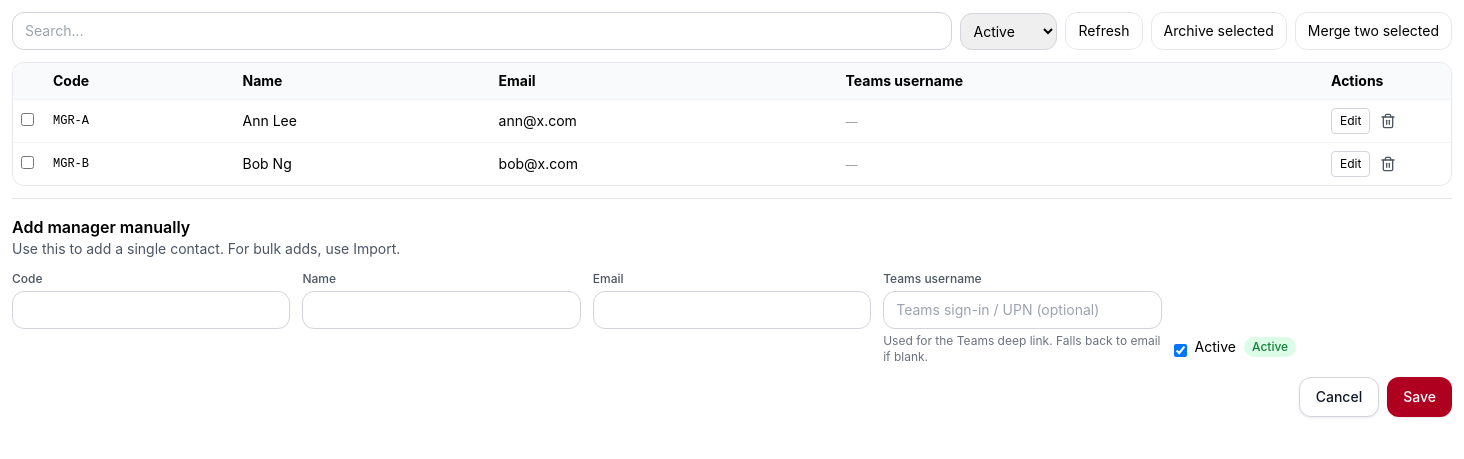
DirectoryTable inline edit › only one row is editable at a time
Expected: the text "MGR-A" is shown, [45,100,234,142]
Click the button with aria-label "edit manager ann lee" at (1351,121), box [1331,108,1370,134]
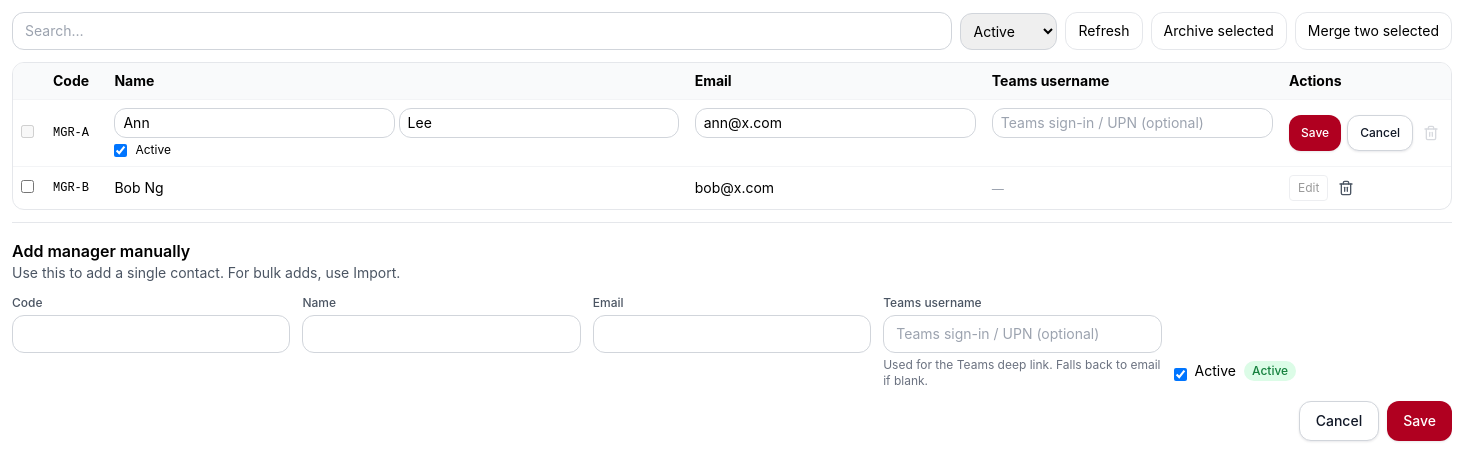
Result: the button with aria-label "edit manager bob ng" is disabled at [1289,175,1328,201]
Click the button "Cancel" in the row of "MGR-A" at (1380,133), box [1347,115,1413,151]
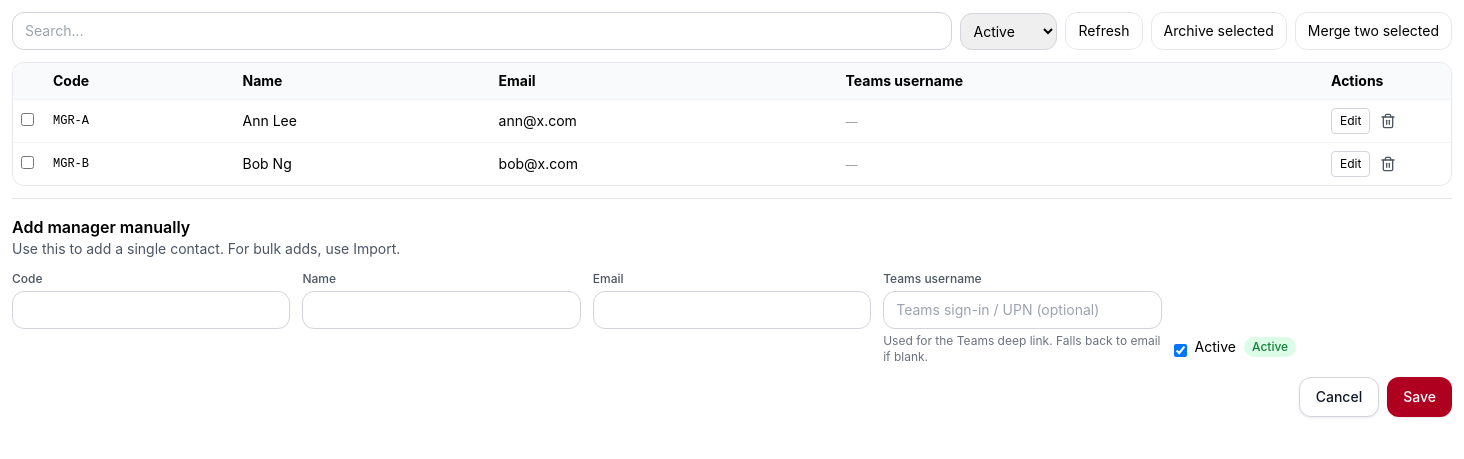
Result: the button with aria-label "edit manager bob ng" is enabled at [1331,151,1370,177]
